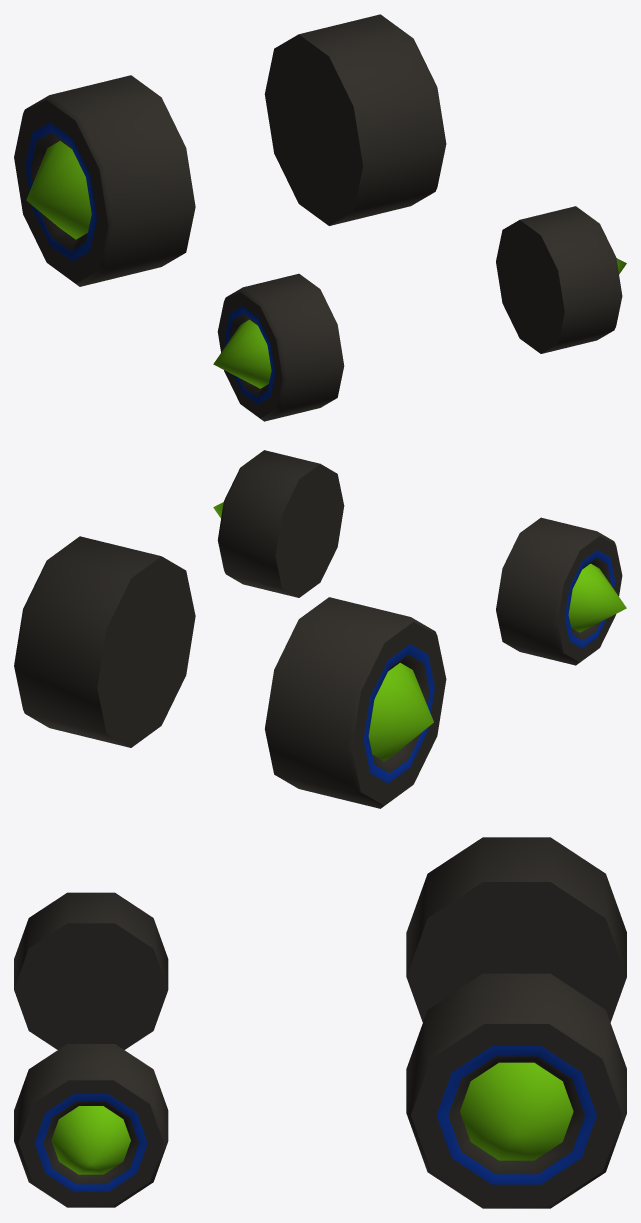
File: LuxWheel00C05.gltf
3 views of the same model, one above another, from view 1: azimuth 30°, elevation 25°; view 2: azimuth 150°, elevation 25°; view 3: azimuth 270°, elevation 25° (orthographic). The views are drawn at different scales.
Visible parts, largest first — view 1: LuxWheel00C05; view 2: LuxWheel00C05; view 3: LuxWheel00C05.
Part boxes in pixels (<box>): LuxWheel00C05: <box>14,14,626,421</box>; LuxWheel00C05: <box>14,450,626,808</box>; LuxWheel00C05: <box>14,837,626,1208</box>.
Bounding box in the file's own units: 0.2379 × 0.0932 × 0.2723.
1 material, 1 textured.
